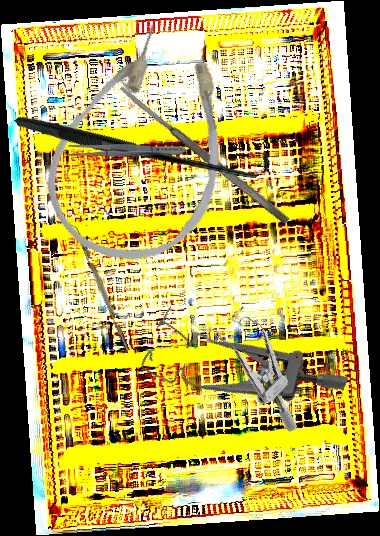Cannula: (25, 7, 265, 285)
Chopper: (67, 220, 130, 354)
Dressing Forceps: (67, 143, 187, 158)
Hook Surgical: (14, 10, 275, 274)
Spatula Surgical: (117, 82, 291, 227)
Speculum: (136, 289, 351, 455), (191, 295, 333, 435)
